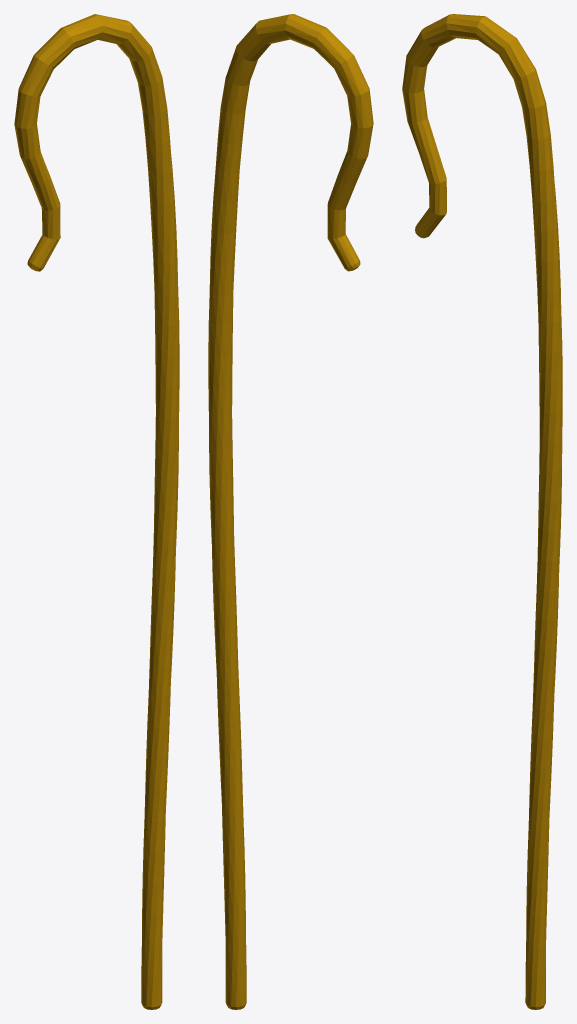
The model's file is 99553c64-3743-47ad-a5c1-fc0be0f9fcb3.glb.
3 renders of one model, left to right at view 1: azimuth 30°, elevation 25°; view 2: azimuth 150°, elevation 25°; view 3: azimuth 330°, elevation 25°, orthographic. The views are drawn at different scales.
Parts seen in each view (by area): view 1: Path_sweep; view 2: Path_sweep; view 3: Path_sweep.
Boxes of the visible parts, x1,y1,x2,y2 form: Path_sweep: (14, 14, 179, 1007); Path_sweep: (208, 14, 373, 1007); Path_sweep: (402, 14, 562, 1007).
Bounding box in the file's own units: 52.45 × 311 × 7.03.
